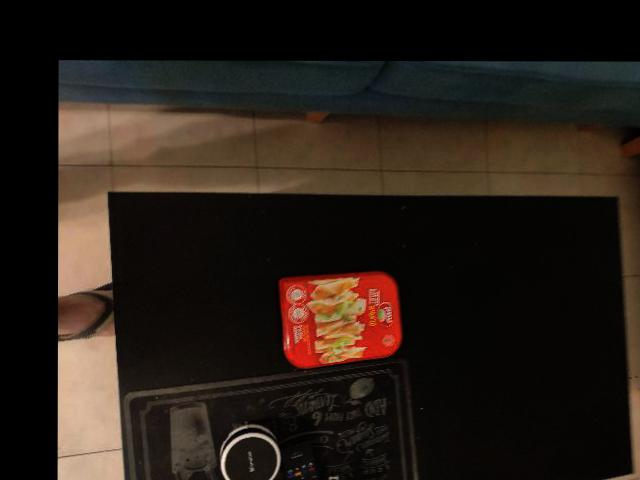cheese: (265, 268, 403, 364)
